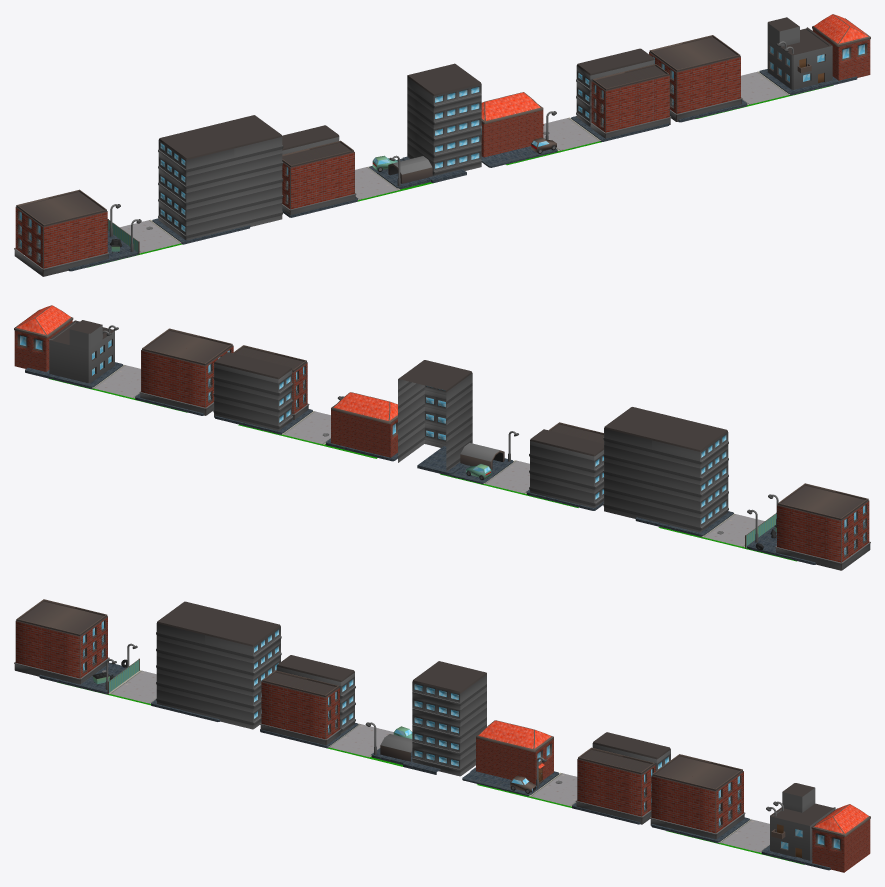
File: Map_props.fbx
The picture shows the model from 3 angles, top to bottom: view 1: azimuth 30°, elevation 25°; view 2: azimuth 150°, elevation 25°; view 3: azimuth 330°, elevation 25°; orthographic projection.
Parts seen in each view (by area): view 1: Cube.004, Cube.012, Cube.006, Дом1.003, Cube.031, Дом1.009, Дом1.006, Дом1.002, Дом1.008, Дом1.004, Cube.033, Дом1.005 (+11 smaller); view 2: Cube.004, Cube.012, Cube.006, Дом1.003, Cube.031, Дом1.009, Cube.024, Cube.014, Дом1.008, Дом1.002, Cube.028, Cube.017 (+11 smaller); view 3: Cube.012, Cube.006, Cube.004, Дом1.008, Дом1.002, Cube.031, Дом1.005, Дом1.003, Дом1.007, Дом1.009, Cube.033, Cube.018 (+13 smaller).
Part boxes in pixels (x1=…): Cube.004: x1=158, y1=126, x2=234, y2=240; Cube.012: x1=407, y1=63, x2=481, y2=175; Cube.006: x1=207, y1=115, x2=283, y2=228; Дом1.003: x1=14, y1=197, x2=76, y2=276; Cube.031: x1=767, y1=17, x2=832, y2=89; Дом1.009: x1=649, y1=42, x2=709, y2=121; Дом1.006: x1=590, y1=71, x2=638, y2=138; Дом1.002: x1=48, y1=189, x2=109, y2=266; Дом1.008: x1=681, y1=35, x2=742, y2=111; Дом1.004: x1=282, y1=148, x2=323, y2=215; Cube.033: x1=824, y1=20, x2=870, y2=80; Дом1.005: x1=309, y1=140, x2=356, y2=207; Cube.004: x1=652, y1=418, x2=728, y2=532; Cube.012: x1=398, y1=360, x2=472, y2=471; Cube.006: x1=603, y1=407, x2=679, y2=520; Дом1.003: x1=808, y1=491, x2=870, y2=570; Cube.031: x1=49, y1=320, x2=114, y2=383; Дом1.009: x1=172, y1=336, x2=233, y2=415; Cube.024: x1=246, y1=360, x2=292, y2=430; Cube.014: x1=562, y1=437, x2=603, y2=507; Дом1.008: x1=139, y1=328, x2=200, y2=405; Дом1.002: x1=775, y1=483, x2=836, y2=560; Cube.028: x1=213, y1=352, x2=259, y2=422; Cube.017: x1=529, y1=429, x2=575, y2=500; Cube.012: x1=412, y1=661, x2=486, y2=776; Cube.006: x1=205, y1=613, x2=281, y2=729; Cube.004: x1=156, y1=601, x2=232, y2=715; Дом1.008: x1=683, y1=762, x2=745, y2=839; Дом1.002: x1=47, y1=607, x2=109, y2=684; Cube.031: x1=770, y1=783, x2=835, y2=860; Дом1.005: x1=293, y1=678, x2=341, y2=745; Дом1.003: x1=14, y1=599, x2=74, y2=676; Дом1.007: x1=609, y1=755, x2=655, y2=824; Дом1.009: x1=650, y1=754, x2=710, y2=831; Cube.033: x1=811, y1=810, x2=858, y2=872; Cube.018: x1=505, y1=725, x2=553, y2=784.
Size of the model in its own units: 15025 by 1462 by 1038.
